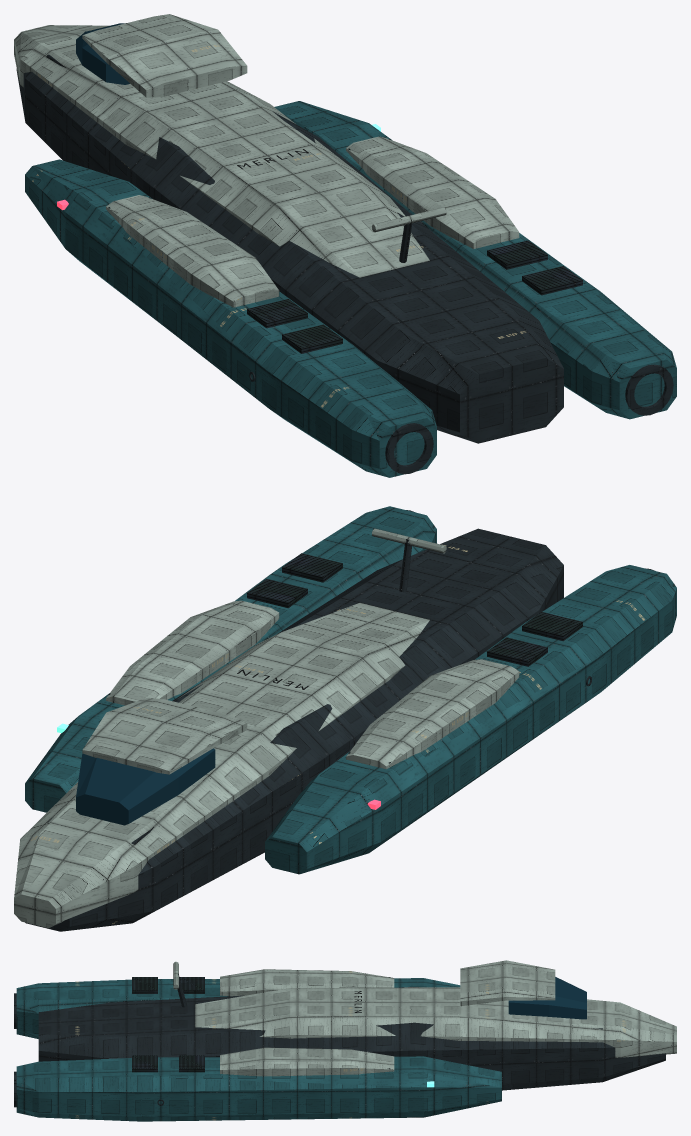
File: ship_merlin.glb
The picture shows the model from 3 angles, top to bottom: view 1: azimuth 30°, elevation 25°; view 2: azimuth 150°, elevation 25°; view 3: azimuth 270°, elevation 25°; orthographic projection. The views are drawn at different scales.
Visible parts, largest first — view 1: Cream, Teal, Frame, Thermal, Glass; view 2: Cream, Teal, Frame, Glass, Thermal; view 3: Cream, Teal, Frame, Glass, Thermal.
Boxes of the visible parts, bbox=[...] form: Cream: bbox=[14, 14, 519, 307]; Teal: bbox=[25, 101, 676, 477]; Frame: bbox=[16, 54, 673, 474]; Thermal: bbox=[108, 138, 582, 353]; Glass: bbox=[76, 23, 129, 84]; Cream: bbox=[14, 528, 519, 928]; Teal: bbox=[25, 506, 676, 874]; Frame: bbox=[25, 510, 654, 931]; Glass: bbox=[76, 748, 215, 825]; Thermal: bbox=[108, 553, 582, 763]; Cream: bbox=[173, 960, 676, 1076]; Teal: bbox=[16, 978, 501, 1121]; Frame: bbox=[14, 973, 665, 1107]; Glass: bbox=[508, 977, 586, 1019]; Thermal: bbox=[132, 977, 390, 1072].
Bounding box in the file's own units: 11.94 × 5.35 × 30.32.
8 materials, 6 textured.
